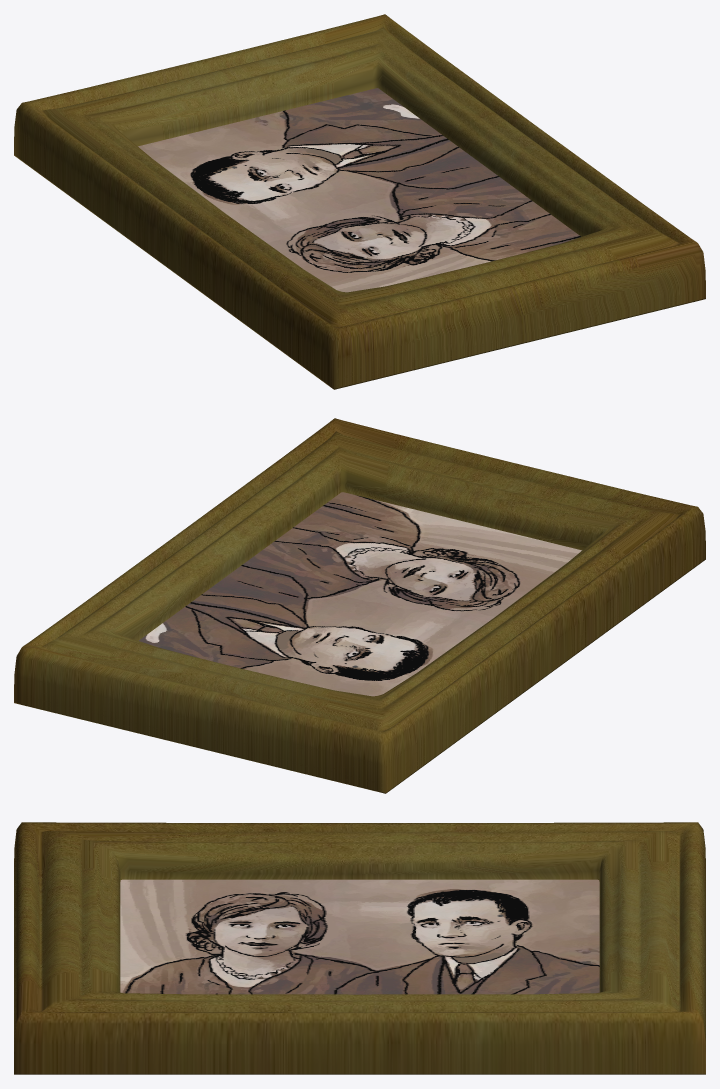
Rendered from cuadro.fbx.
The picture shows the model from 3 angles, top to bottom: view 1: azimuth 30°, elevation 25°; view 2: azimuth 150°, elevation 25°; view 3: azimuth 270°, elevation 25°; orthographic projection. The views are drawn at different scales.
Parts seen in each view (by area): view 1: Plane, Plane.001; view 2: Plane, Plane.001; view 3: Plane, Plane.001.
Part boxes in pixels (<box>): Plane: <box>14,14,705,389</box>; Plane.001: <box>138,88,580,292</box>; Plane: <box>14,418,705,793</box>; Plane.001: <box>139,492,581,696</box>; Plane: <box>14,822,705,1074</box>; Plane.001: <box>120,879,599,994</box>.
Bounding box in the file's own units: 200 × 28.52 × 298.
